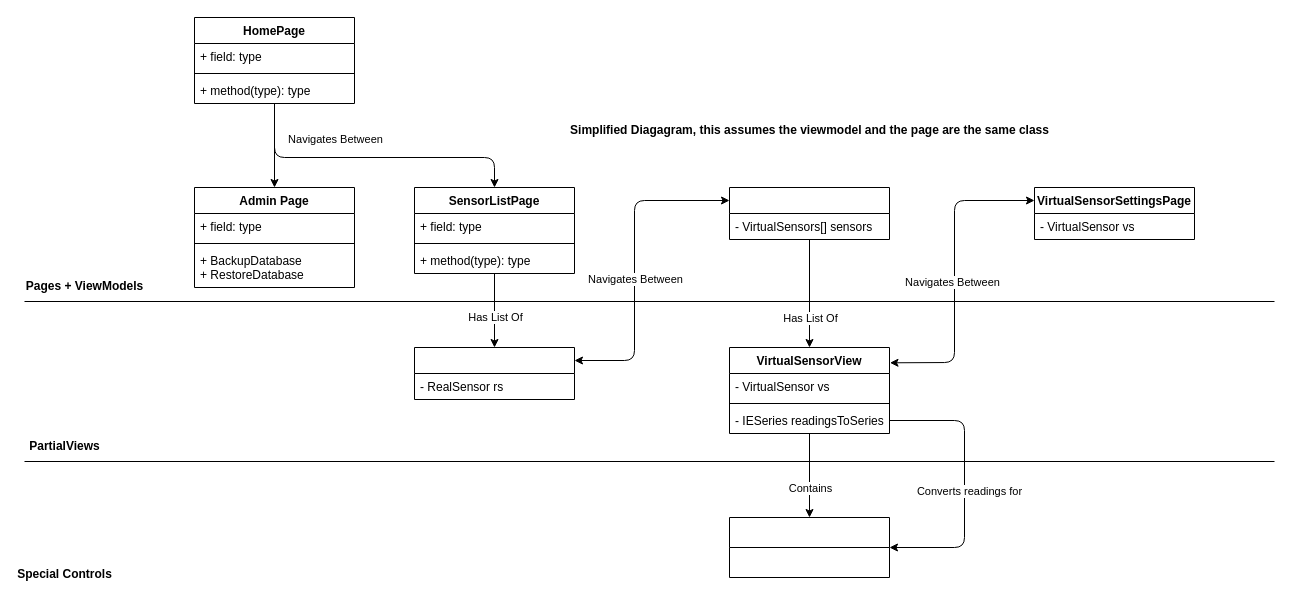
The diagram is 1292 pixels wide and 605 high, and some of its shapes have lost their labels. The shapes that lost their labels are listed below. From the top down, each one's box as (x1, y1, x2, y2) in pixels, then its label:
(728, 186, 890, 240): SensorPage
(414, 346, 574, 400): SensorListItem
(728, 516, 890, 578): LiveCharts.CartesianChart
